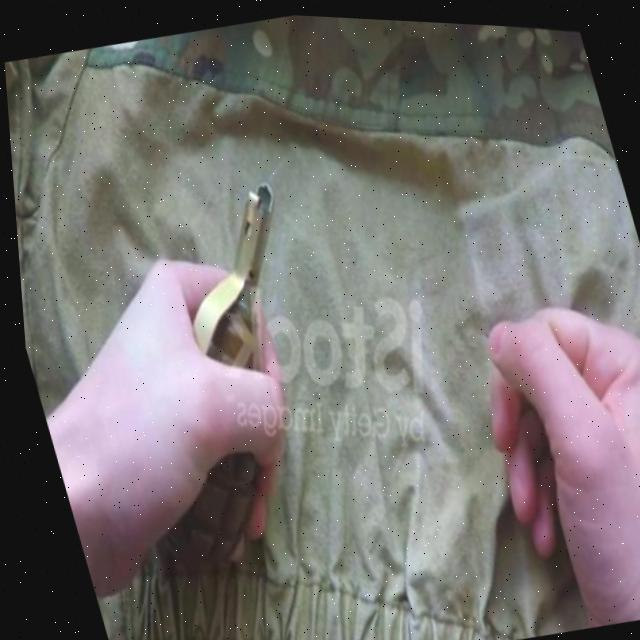grenade: (49, 139, 379, 608)
